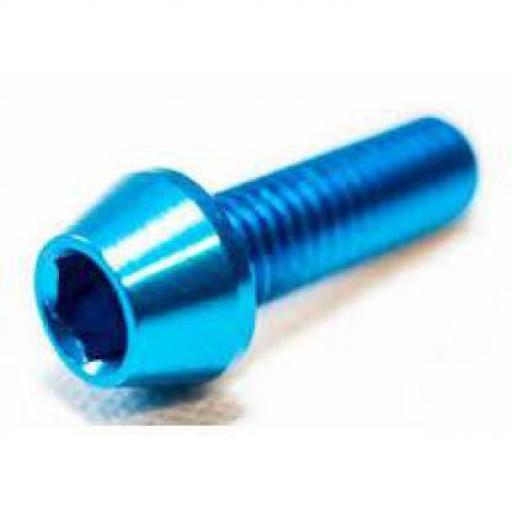Bolt: (32, 115, 481, 393)
